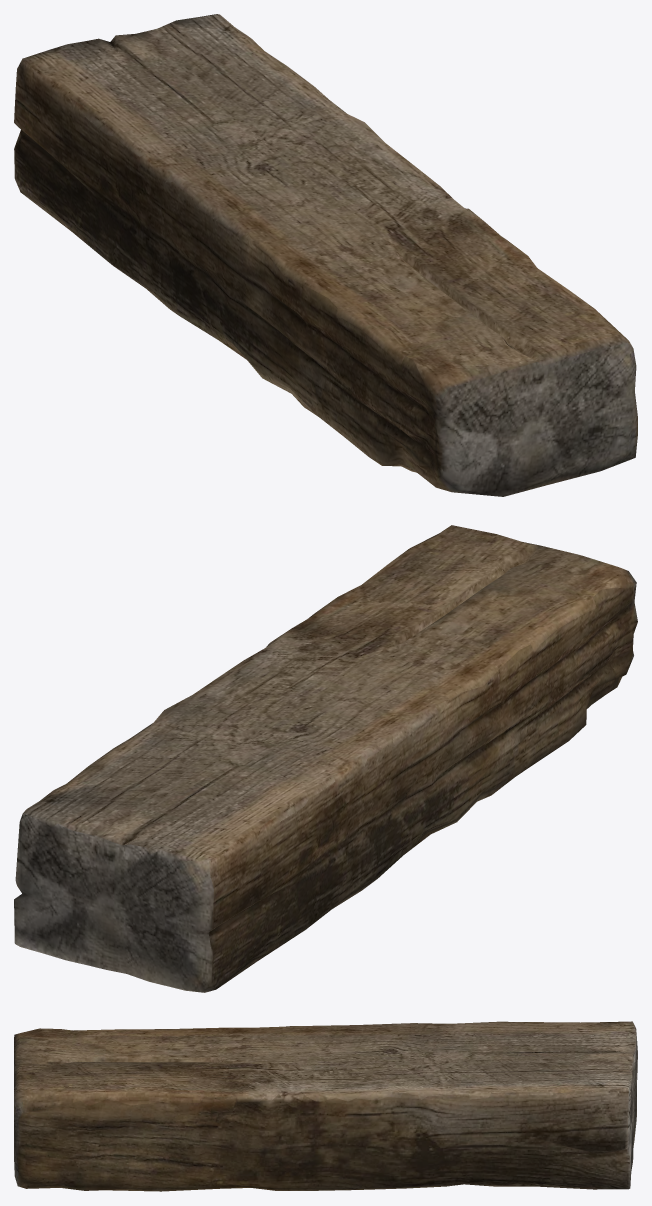
File: bollard.glb
3 views of the same model, one above another, from view 1: azimuth 30°, elevation 25°; view 2: azimuth 150°, elevation 25°; view 3: azimuth 270°, elevation 25° (orthographic). The views are drawn at different scales.
Visible parts, largest first — view 1: bollard_S_Wooden_Bollard_tlttae1fa_lod10_LOD0; view 2: bollard_S_Wooden_Bollard_tlttae1fa_lod10_LOD0; view 3: bollard_S_Wooden_Bollard_tlttae1fa_lod10_LOD0.
Part boxes in pixels (x1,y1,x2,y2): bollard_S_Wooden_Bollard_tlttae1fa_lod10_LOD0: (14,14,637,496); bollard_S_Wooden_Bollard_tlttae1fa_lod10_LOD0: (14,525,637,992); bollard_S_Wooden_Bollard_tlttae1fa_lod10_LOD0: (14,1021,637,1191).
Size of the model in its own units: 0.2254 by 0.1492 by 0.7928.
Materials: 1 (1 with a texture image).
